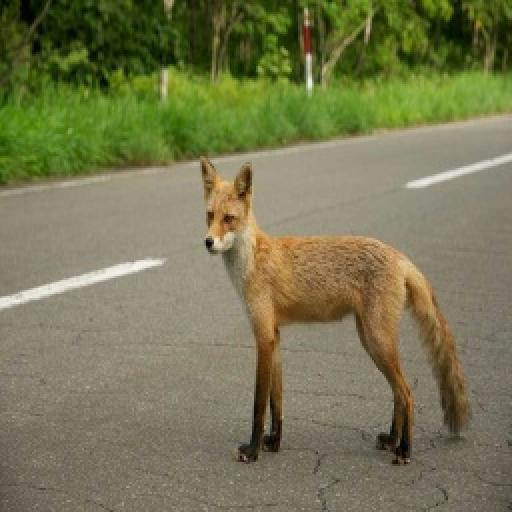zorro: (200, 158, 468, 462)
